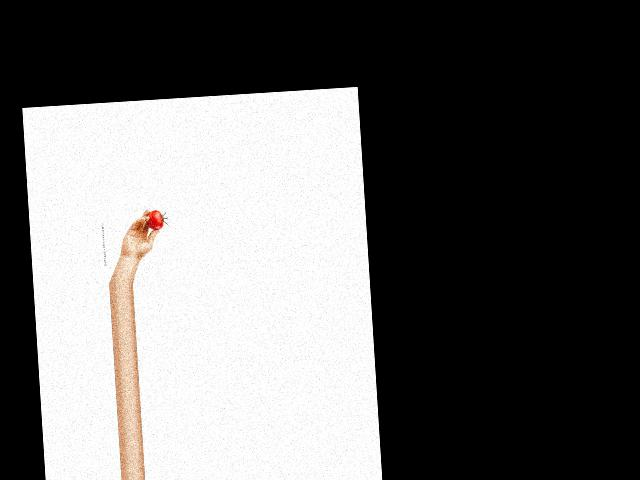tomato: (145, 210, 163, 231)
